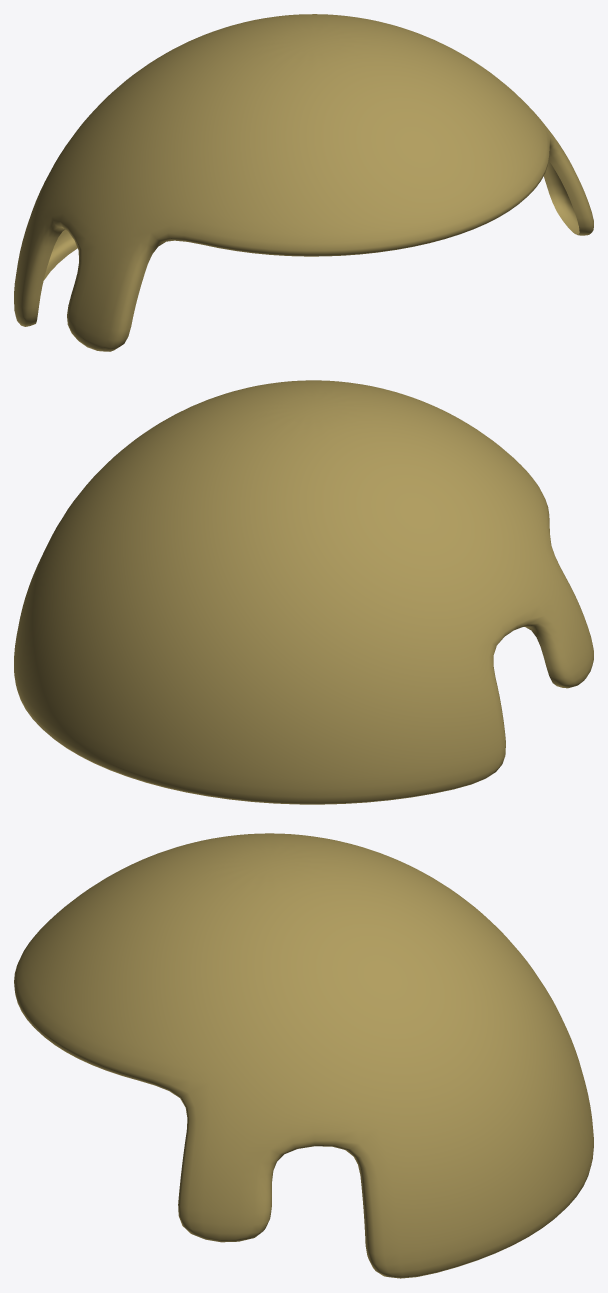
File: Male_Hair2.fbx
3 renders of one model, top to bottom at view 1: azimuth 30°, elevation 25°; view 2: azimuth 150°, elevation 25°; view 3: azimuth 270°, elevation 25°, orthographic. The views are drawn at different scales.
Parts seen in each view (by area): view 1: Hair_Shaved_Smooth; view 2: Hair_Shaved_Smooth; view 3: Hair_Shaved_Smooth.
Part boxes in pixels (x1=…): Hair_Shaved_Smooth: x1=14, y1=14, x2=593, y2=351; Hair_Shaved_Smooth: x1=14, y1=380, x2=593, y2=804; Hair_Shaved_Smooth: x1=14, y1=833, x2=593, y2=1278.
Size of the model in its own units: 1.43 by 0.7401 by 1.31.
